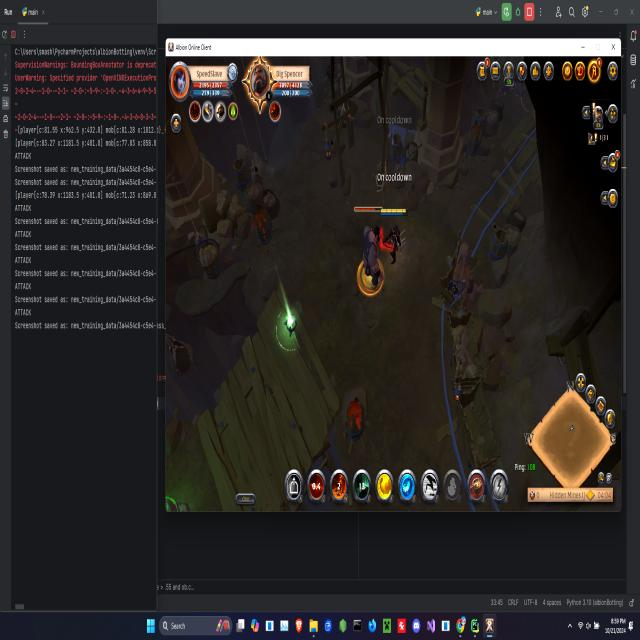ore: (352, 202, 388, 300)
red: (378, 205, 411, 270)
